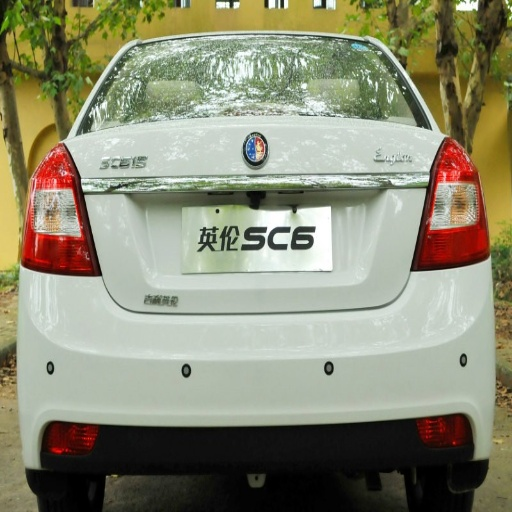back_bumper: (22, 261, 489, 482)
tailgate: (64, 108, 442, 308)
trunk: (240, 275, 305, 312)
